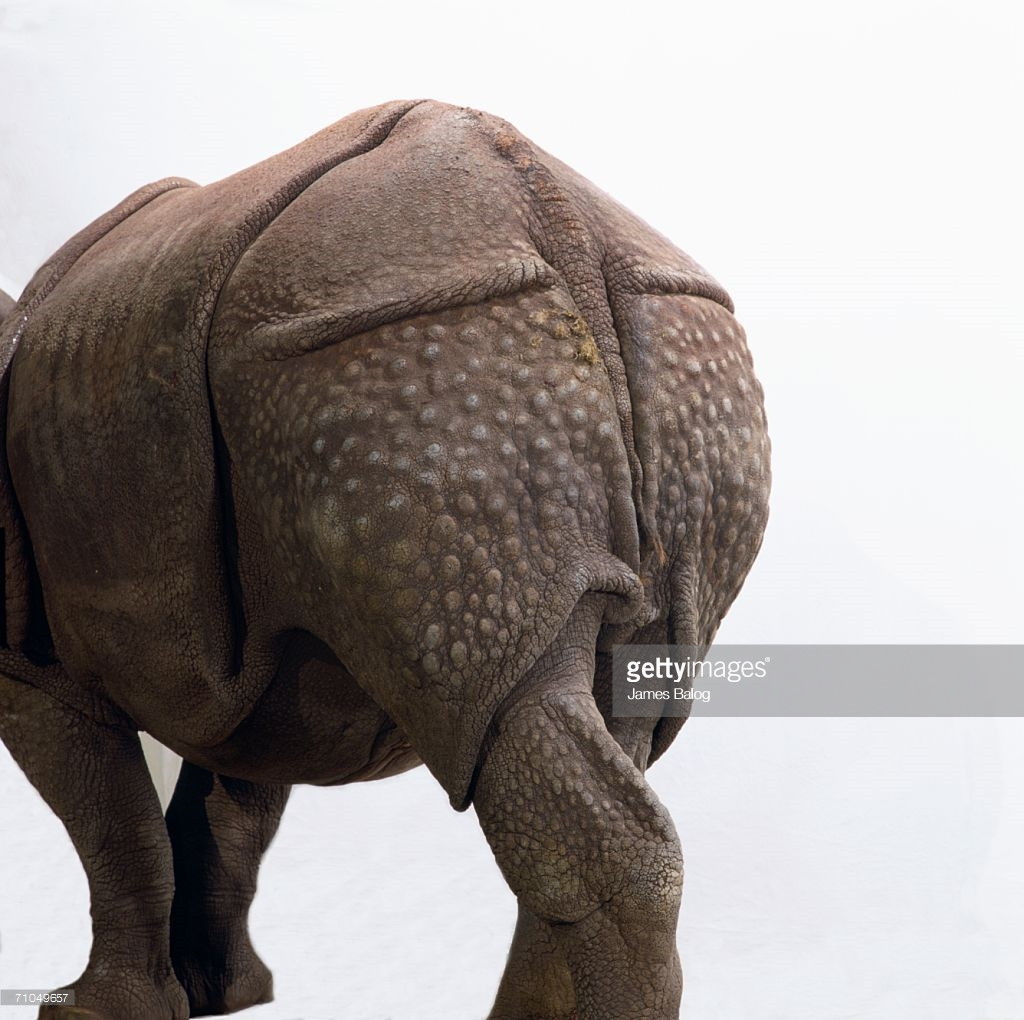rhinoceros: (1, 84, 772, 1010)
